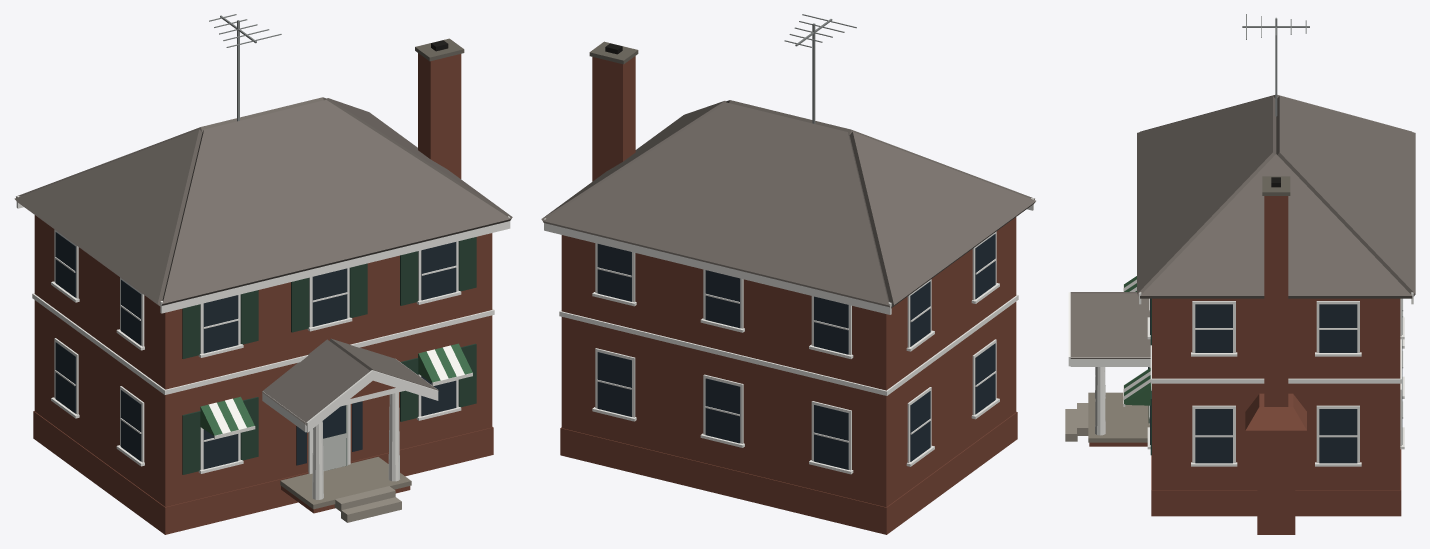
Rendered from brick-colonial-revival-house-0001.glb.
3 renders of one model, left to right at view 1: azimuth 30°, elevation 25°; view 2: azimuth 150°, elevation 25°; view 3: azimuth 270°, elevation 25°, orthographic. The views are drawn at different scales.
Visible parts, largest first — view 1: kit-brick-colonial-revival-house-0001; view 2: kit-brick-colonial-revival-house-0001; view 3: kit-brick-colonial-revival-house-0001.
Boxes of the visible parts, x1,y1,x2,y2 form: kit-brick-colonial-revival-house-0001: (14, 14, 512, 534); kit-brick-colonial-revival-house-0001: (541, 14, 1035, 534); kit-brick-colonial-revival-house-0001: (1065, 14, 1415, 534).
Size of the model in its own units: 10.51 by 11.37 by 8.8.
